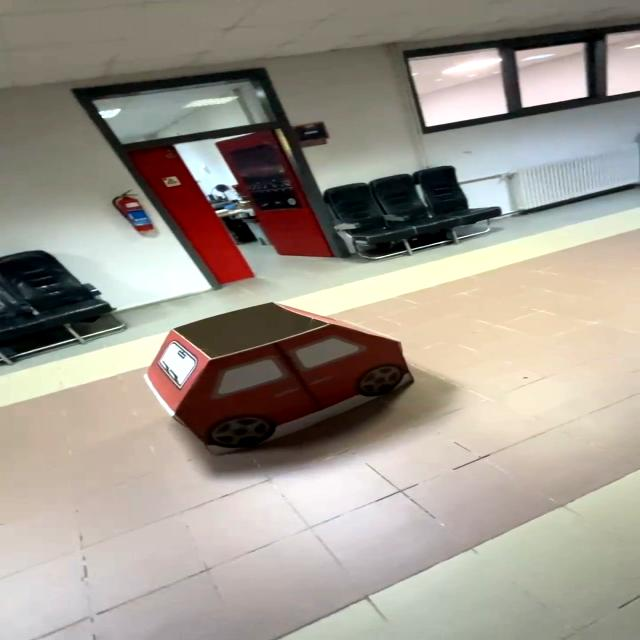red_car: (123, 290, 436, 468)
